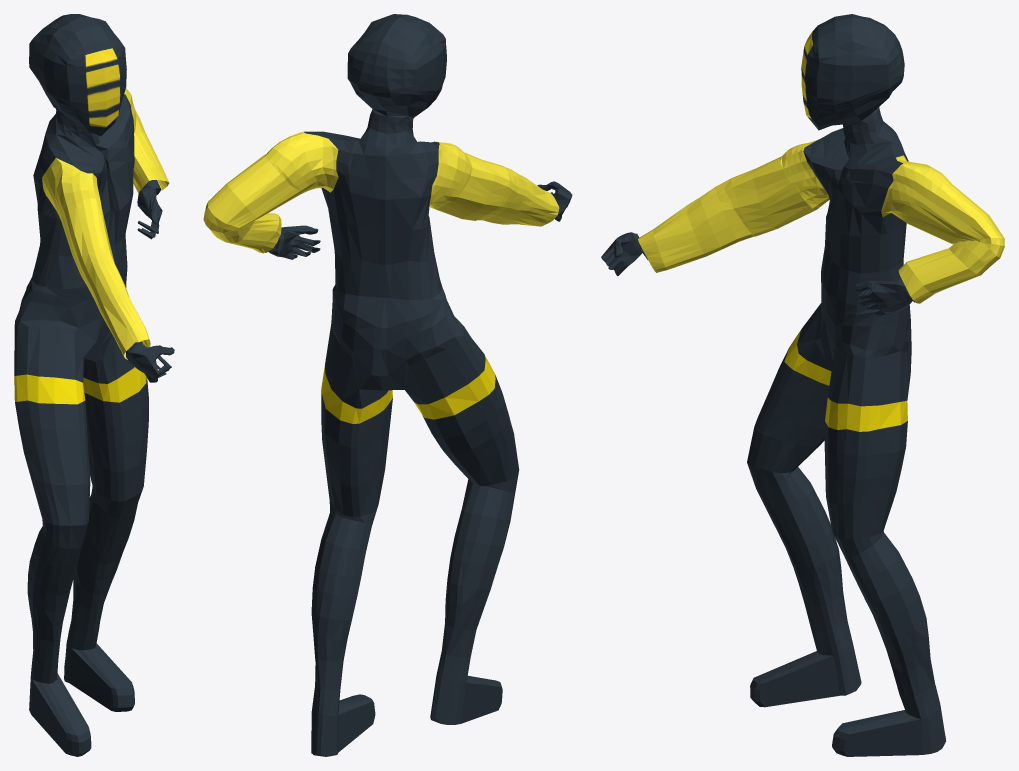
Rendered from Sentry_WF_000017.obj.
The picture shows the model from 3 angles, left to right: view 1: azimuth 30°, elevation 25°; view 2: azimuth 150°, elevation 25°; view 3: azimuth 270°, elevation 25°; orthographic projection. The views are drawn at different scales.
Parts seen in each view (by area): view 1: Cube; view 2: Cube; view 3: Cube.
Part boxes in pixels (box(x1,y1,x2,y2)): Cube: box(14, 14, 174, 756); Cube: box(203, 14, 572, 756); Cube: box(601, 14, 1004, 756).
Bounding box in the file's own units: 1.17 × 3.87 × 1.98.
